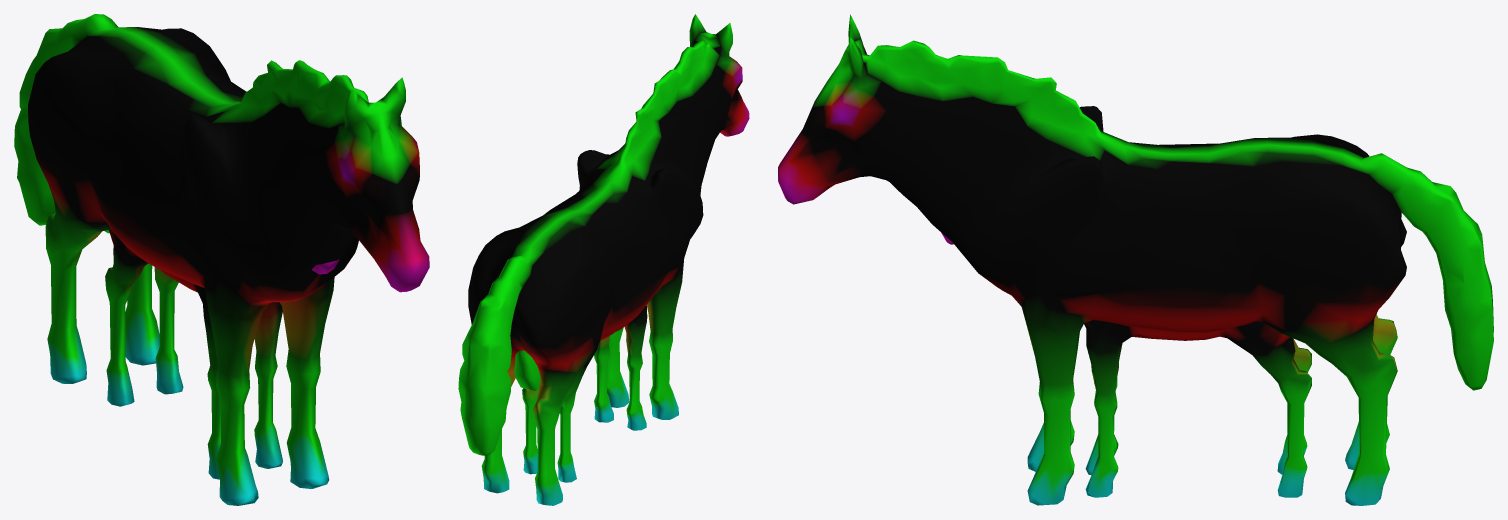
Rendered from wild-horses.glb.
3 renders of one model, left to right at view 1: azimuth 30°, elevation 25°; view 2: azimuth 150°, elevation 25°; view 3: azimuth 270°, elevation 25°, orthographic. The views are drawn at different scales.
Parts seen in each view (by area): view 1: horse, foal; view 2: horse, foal; view 3: horse, foal.
Part boxes in pixels (<box>): horse: <box>14,14,429,505</box>; foal: <box>104,229,339,479</box>; horse: <box>458,14,749,505</box>; foal: <box>514,305,647,482</box>; horse: <box>778,14,1493,505</box>; foal: <box>941,232,1311,497</box>.
Size of the model in its own units: 0.6626 by 1.82 by 2.59.
